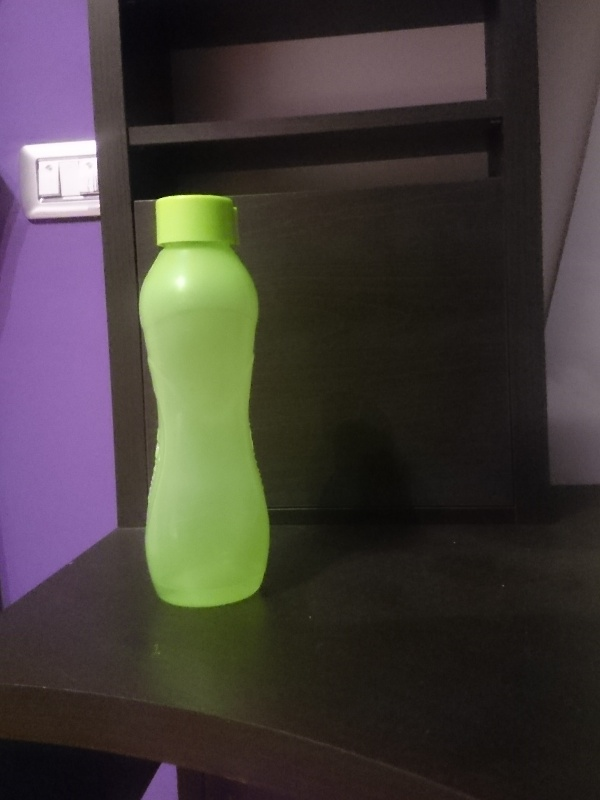my bottle: (141, 194, 267, 608)
